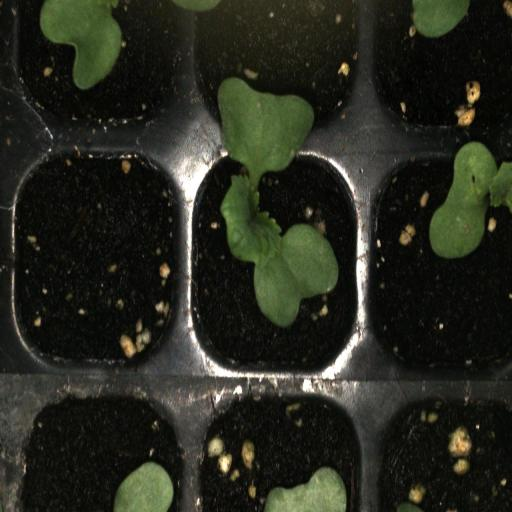noseedling: (9, 147, 192, 374)
seedling: (192, 142, 363, 377)
